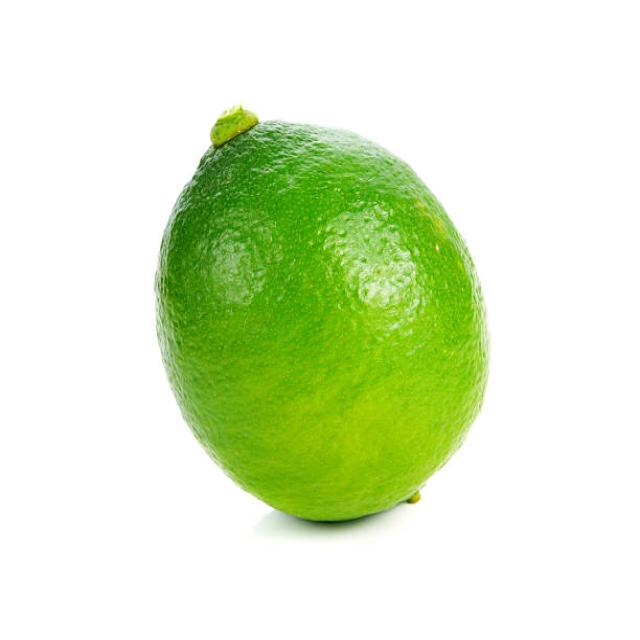Unripe: (152, 111, 492, 524)
